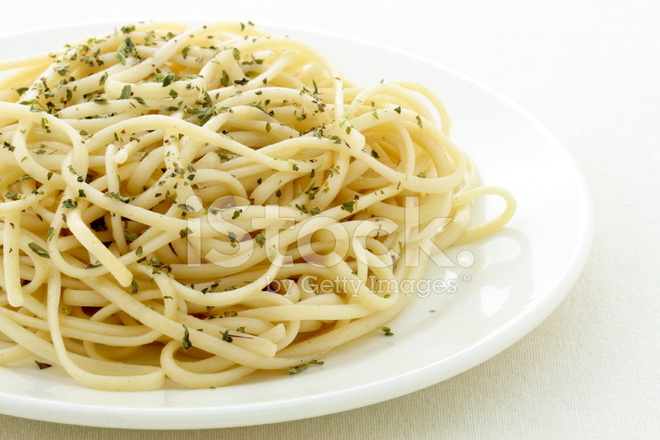plain spaghetti: (1, 51, 457, 352)
